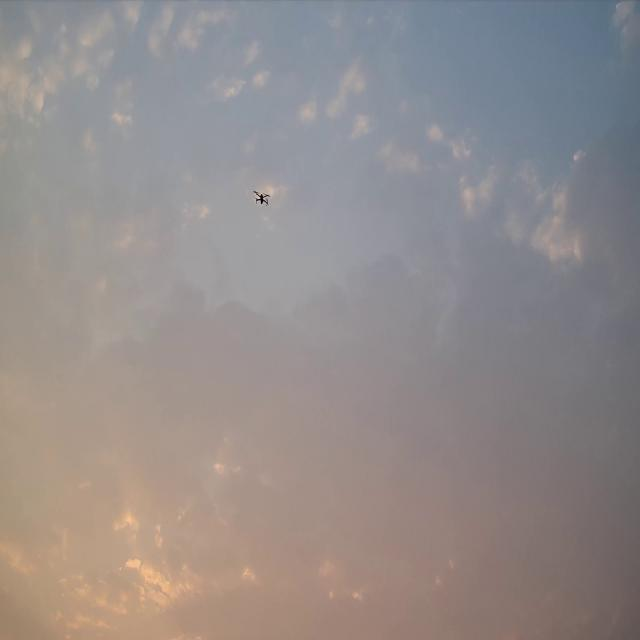UAV: (253, 190, 270, 206)
